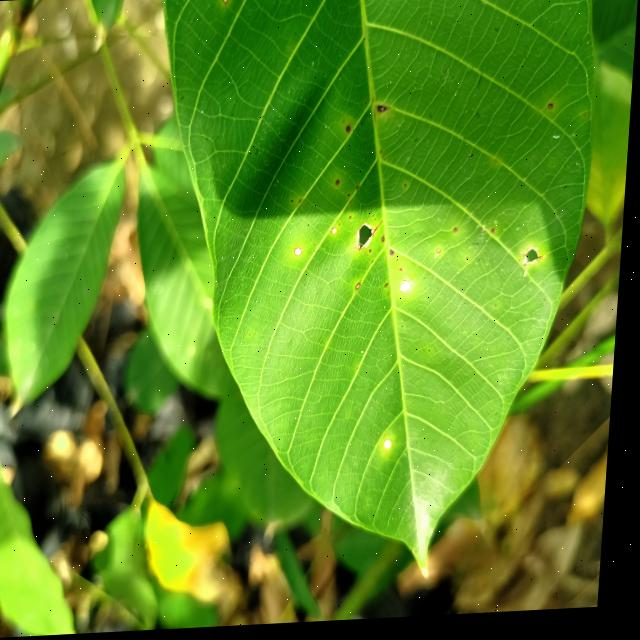Colletotrichum: (404, 284, 416, 296), (389, 442, 398, 452), (298, 249, 306, 259), (360, 285, 365, 294), (335, 230, 341, 237), (348, 128, 353, 135), (222, 0, 229, 5), (550, 109, 555, 115), (338, 183, 343, 188), (494, 233, 499, 238), (440, 252, 444, 257), (457, 232, 461, 237), (385, 240, 388, 246), (373, 253, 375, 257), (353, 219, 355, 222), (407, 187, 409, 190)
